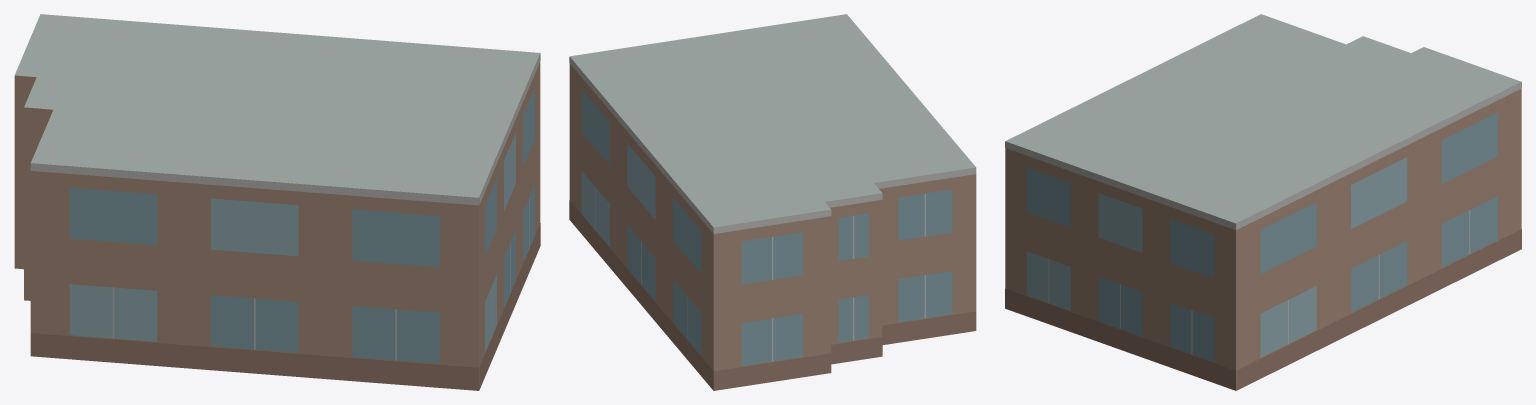
File: survey-upis-33032681.glb
The picture shows the model from 3 angles, left to right: view 1: azimuth 30°, elevation 25°; view 2: azimuth 150°, elevation 25°; view 3: azimuth 270°, elevation 25°; orthographic projection. The views are drawn at different scales.
Parts seen in each view (by area): view 1: survey-upis-33032681.tmp; view 2: survey-upis-33032681.tmp; view 3: survey-upis-33032681.tmp.
Boxes of the visible parts, <box> form: survey-upis-33032681.tmp: <box>14,14,540,390</box>; survey-upis-33032681.tmp: <box>569,14,976,390</box>; survey-upis-33032681.tmp: <box>1005,14,1521,390</box>.
Size of the model in its own units: 16.39 by 6.1 by 17.08.
